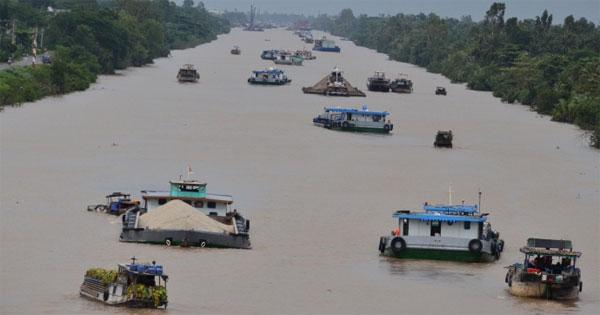Ship: (123, 186, 256, 250), (374, 206, 504, 261), (513, 232, 584, 302), (78, 266, 178, 312), (318, 102, 392, 133), (303, 71, 366, 98), (246, 64, 292, 88), (174, 60, 210, 88), (392, 71, 416, 94)
